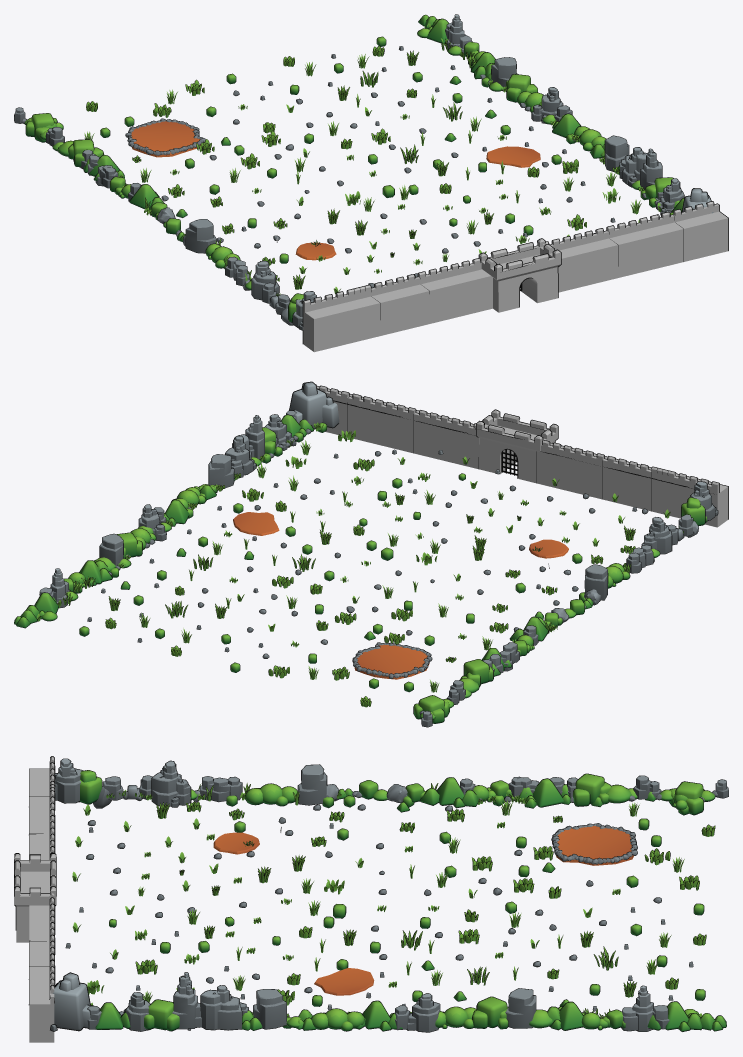
Rendered from map_design.fbx.
3 views of the same model, one above another, from view 1: azimuth 30°, elevation 25°; view 2: azimuth 150°, elevation 25°; view 3: azimuth 270°, elevation 25° (orthographic). The views are drawn at different scales.
Visible parts, largest first — view 1: CastleGate, Wall3__3__1, Wall3__3_, Wall3__2_, Wall3__4_, Wall3__5_, Wall3__4__1, Plane.001, Plane.002, Rock_1_G_Color1.001, Rock_1_M_Color1.001, Rock_1_G_Color1.005 (+8 smaller); view 2: CastleGate, Wall3__2_, Wall3__5_, Wall3__4__1, Wall3__4_, Wall3__3_, Plane.001, Rock_2_E_Color1.001, Wall3__3__1, Plane.002, Rock_1_M_Color1.001, Rock_1_G_Color1.005 (+7 smaller); view 3: CastleGate, Plane.001, Wall3__3__1, Rock_2_E_Color1.001, Rock_1_M_Color1.001, Rock_1_L_Color1.001, Plane.002, Rock_1_Q_Color1.001, Rock_1_G_Color1.005, Bush_4_F_Color1.001, Rock_1_G_Color1.004, Rock_1_G_Color1.001 (+23 smaller).
Part boxes in pixels (<box>): CastleGate: <box>479,239,560,312</box>; Wall3__3__1: <box>653,201,728,266</box>; Wall3__3_: <box>353,274,428,339</box>; Wall3__2_: <box>418,258,492,323</box>; Wall3__4_: <box>303,286,378,352</box>; Wall3__5_: <box>543,228,617,292</box>; Wall3__4__1: <box>607,212,682,277</box>; Plane.001: <box>131,121,200,157</box>; Plane.002: <box>486,146,540,167</box>; Rock_1_G_Color1.001: <box>186,219,216,253</box>; Rock_1_M_Color1.001: <box>620,147,647,186</box>; Rock_1_G_Color1.005: <box>605,136,628,171</box>; CastleGate: <box>476,410,557,483</box>; Wall3__2_: <box>537,440,607,499</box>; Wall3__5_: <box>414,410,479,469</box>; Wall3__4__1: <box>348,395,418,453</box>; Wall3__4_: <box>652,468,728,527</box>; Wall3__3_: <box>602,456,678,511</box>; Plane.001: <box>354,644,429,679</box>; Rock_2_E_Color1.001: <box>289,382,339,428</box>; Wall3__3__1: <box>315,386,375,441</box>; Plane.002: <box>233,512,279,535</box>; Rock_1_M_Color1.001: <box>225,434,255,477</box>; Rock_1_G_Color1.005: <box>208,454,234,487</box>; CastleGate: <box>14,854,55,942</box>; Plane.001: <box>552,826,633,865</box>; Wall3__3__1: <box>29,954,54,1042</box>; Rock_2_E_Color1.001: <box>50,973,90,1031</box>; Rock_1_M_Color1.001: <box>201,985,248,1029</box>; Rock_1_L_Color1.001: <box>152,761,190,807</box>; Plane.002: <box>314,968,374,995</box>; Rock_1_Q_Color1.001: <box>172,973,201,1030</box>; Rock_1_G_Color1.005: <box>253,989,286,1029</box>; Bush_4_F_Color1.001: <box>420,777,478,807</box>; Rock_1_G_Color1.004: <box>505,988,535,1028</box>; Rock_1_G_Color1.001: <box>298,765,326,805</box>.
Size of the model in its own units: 3271 by 406 by 4110.
Materials: 44 (40 with a texture image).
